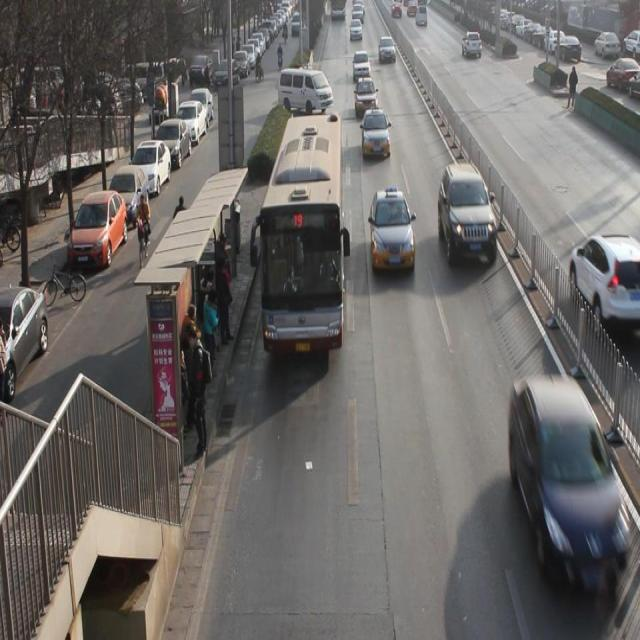car: (514, 384, 623, 582), (571, 240, 640, 336), (437, 165, 497, 266), (362, 110, 392, 159), (297, 62, 316, 113), (355, 80, 379, 117), (461, 30, 485, 60), (350, 50, 370, 85), (377, 36, 397, 65), (347, 20, 365, 42)
truck: (371, 193, 414, 272), (288, 70, 333, 117)
van: (258, 112, 344, 353)
